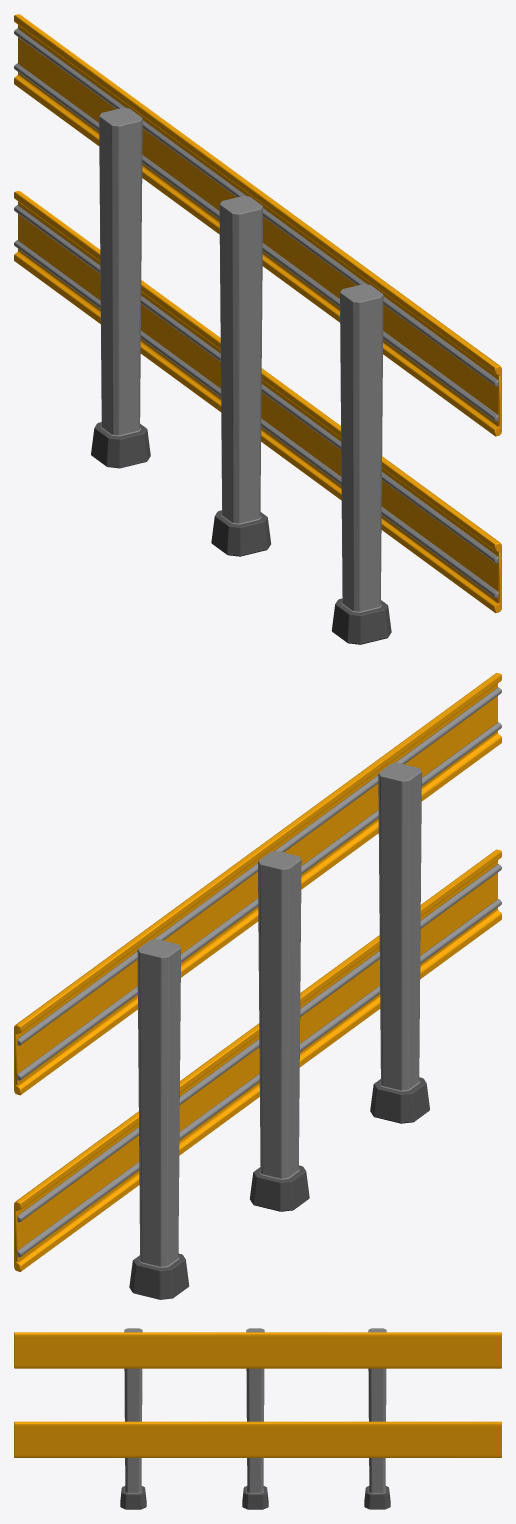
File: refrigerated_gardrail_Straight.glb
The picture shows the model from 3 angles, top to bottom: view 1: azimuth 30°, elevation 25°; view 2: azimuth 150°, elevation 25°; view 3: azimuth 270°, elevation 25°; orthographic projection. The views are drawn at different scales.
Parts seen in each view (by area): view 1: Refrigerated_Gardrail_Straight; view 2: Refrigerated_Gardrail_Straight; view 3: Refrigerated_Gardrail_Straight.
Boxes of the visible parts, <box> form: Refrigerated_Gardrail_Straight: <box>14,14,501,644</box>; Refrigerated_Gardrail_Straight: <box>14,673,501,1299</box>; Refrigerated_Gardrail_Straight: <box>14,1328,501,1509</box>.
Size of the model in its own units: 0.217 by 1.59 by 4.
2 materials, 2 textured.
